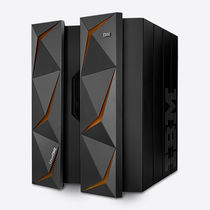ibm-server: (77, 11, 178, 200), (28, 16, 76, 191)
